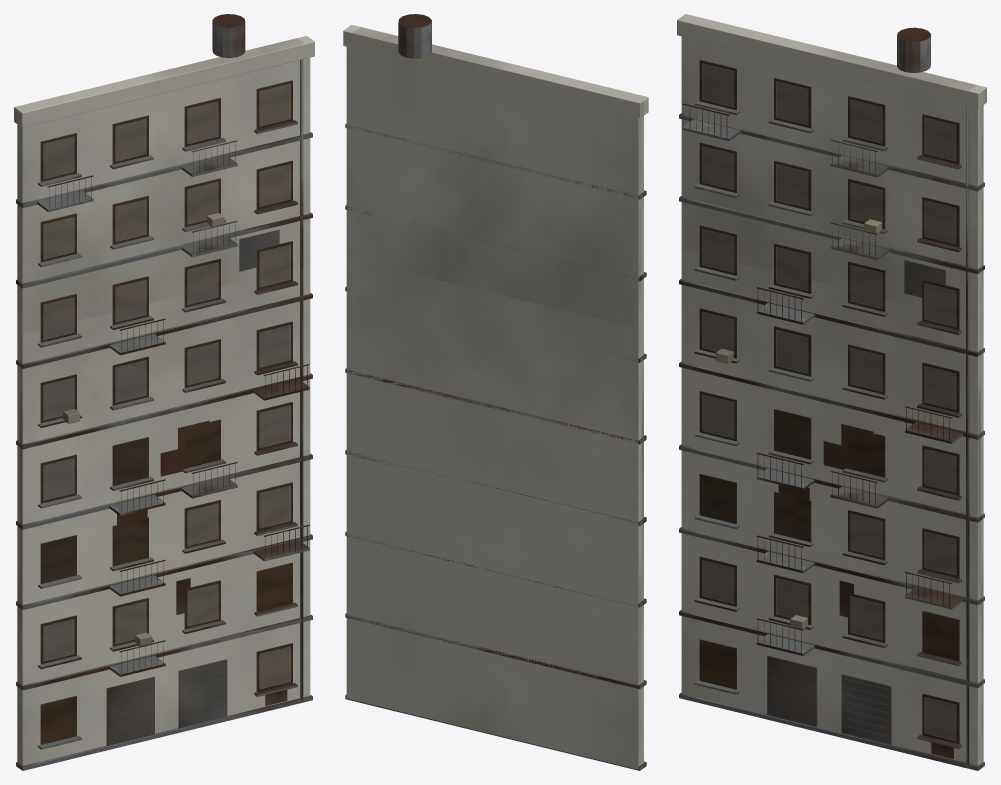
The model's file is R16_apartment_block_facade_v1.glb.
The picture shows the model from 3 angles, left to right: view 1: azimuth 30°, elevation 25°; view 2: azimuth 150°, elevation 25°; view 3: azimuth 330°, elevation 25°; orthographic projection. The views are drawn at different scales.
Visible parts, largest first — view 1: R16_apartment_block_facade_v1; view 2: R16_apartment_block_facade_v1; view 3: R16_apartment_block_facade_v1.
Part boxes in pixels (<box>): R16_apartment_block_facade_v1: <box>14,14,314,770</box>; R16_apartment_block_facade_v1: <box>343,14,648,770</box>; R16_apartment_block_facade_v1: <box>677,14,986,770</box>.
Bounding box in the file's own units: 13.35 × 30 × 2.41.
Materials: 11 (10 with a texture image).
